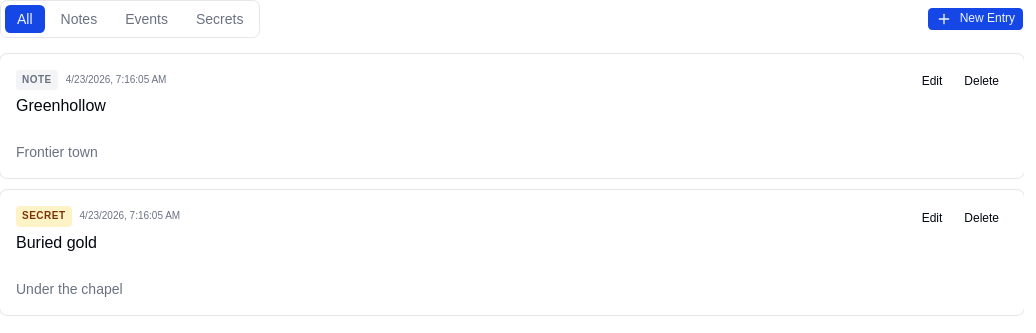
Scenario: SessionLogListPage › renders all entries by default and filters by kind
The width and height of the screenshot is (1036, 333).
expect the text "Greenhollow" is shown: met, box [16, 97, 106, 114]
expect the text "Buried gold" is shown: met, box [16, 234, 97, 250]
Click the button "Secrets" at (220, 19), box [184, 5, 256, 33]
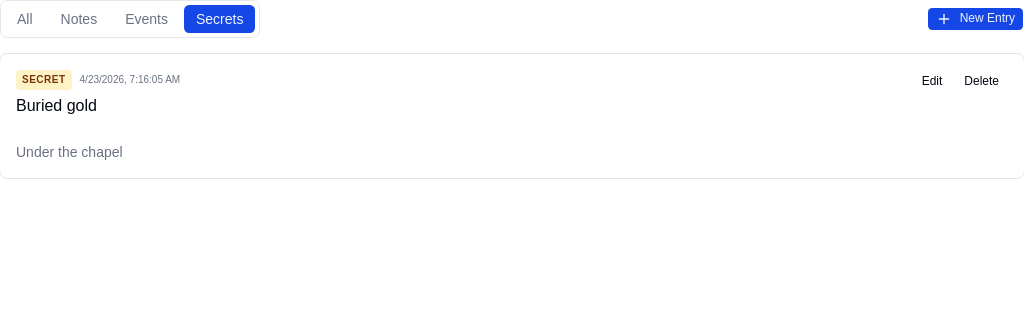
expect the text "Buried gold" is shown: met, box [16, 97, 97, 114]
expect the text "Greenhollow" is gone: met
